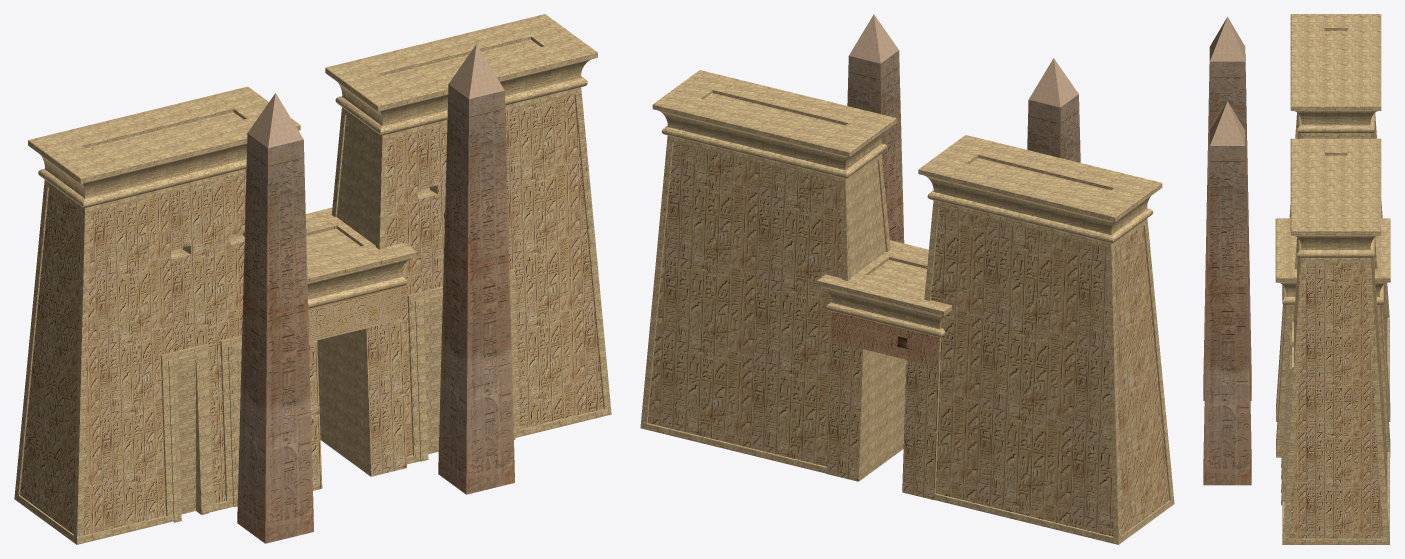
File: egyptian+temple+pylon+with+hieroglyph+texture.fbx
3 renders of one model, left to right at view 1: azimuth 30°, elevation 25°; view 2: azimuth 150°, elevation 25°; view 3: azimuth 270°, elevation 25°, orthographic. The views are drawn at different scales.
Parts seen in each view (by area): view 1: Model; view 2: Model; view 3: Model.
Boxes of the visible parts, x1,y1,x2,y2 form: Model: (14,14,611,544); Model: (640,14,1174,544); Model: (1203,14,1390,544).
Size of the model in its own units: 57.03 by 44.43 by 20.11.
